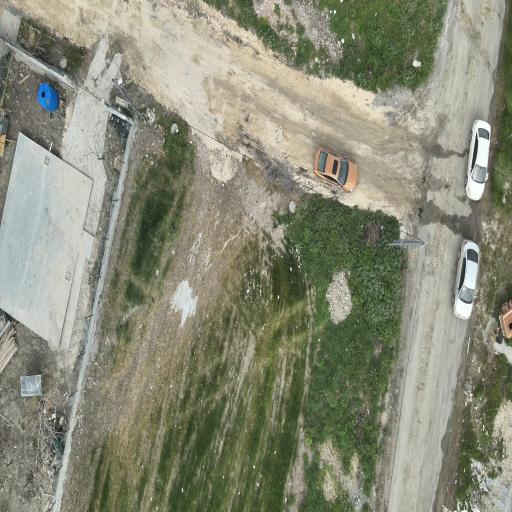car: (452, 239, 479, 318), (465, 119, 490, 199), (314, 147, 358, 191)
